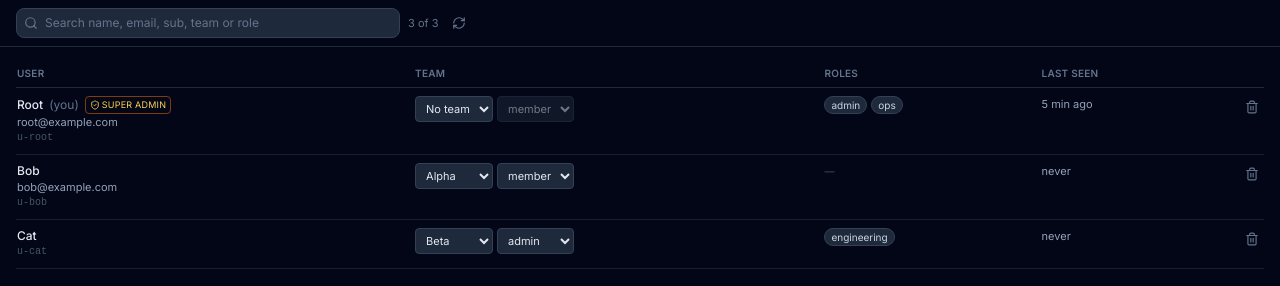
the users table › filters by name, email, sub, team or role
The image size is (1280, 286).
Expected: the row with test id "user-u-bob" is shown, [16, 154, 1264, 220]
Type "bob@" into the field named "Search users" at [208, 23], box [16, 8, 400, 38]
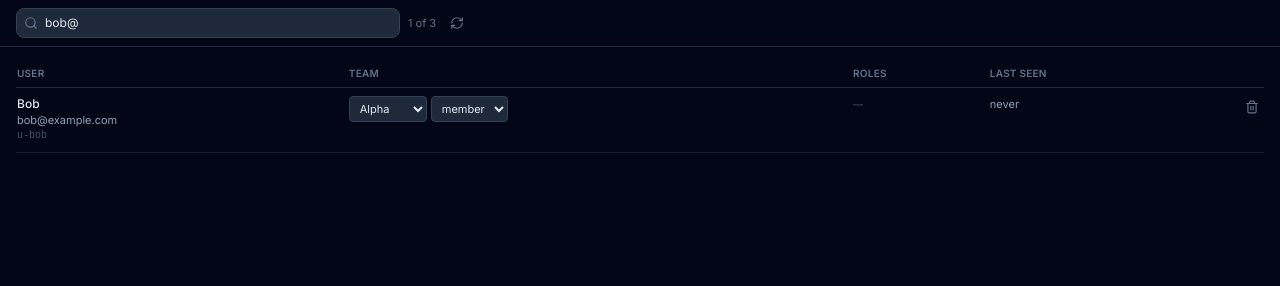
Expected: the row with test id "user-u-bob" is shown, [16, 88, 1264, 152]
Expected: the row with test id "user-u-root" is gone
Replace the text in the field named "Search users" with "engineering" at [208, 23], box [16, 8, 400, 38]
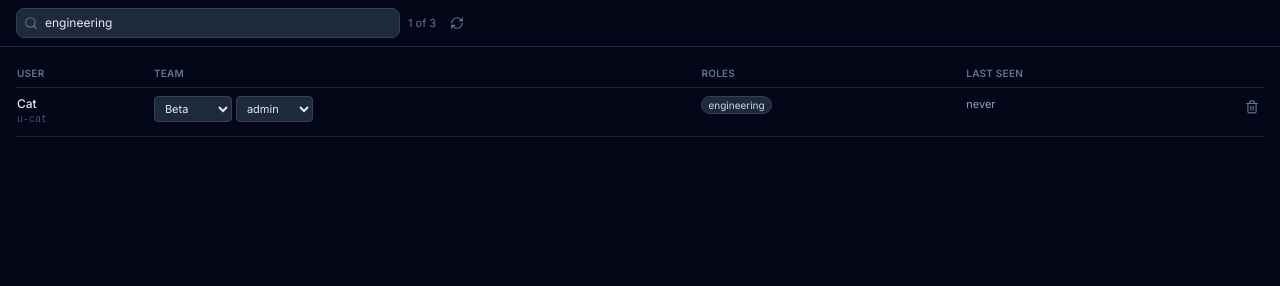
Expected: the row with test id "user-u-cat" is shown, [16, 88, 1264, 136]
Expected: the row with test id "user-u-bob" is gone
Replace the text in the field named "Search users" with "nobody" at [208, 23], box [16, 8, 400, 38]
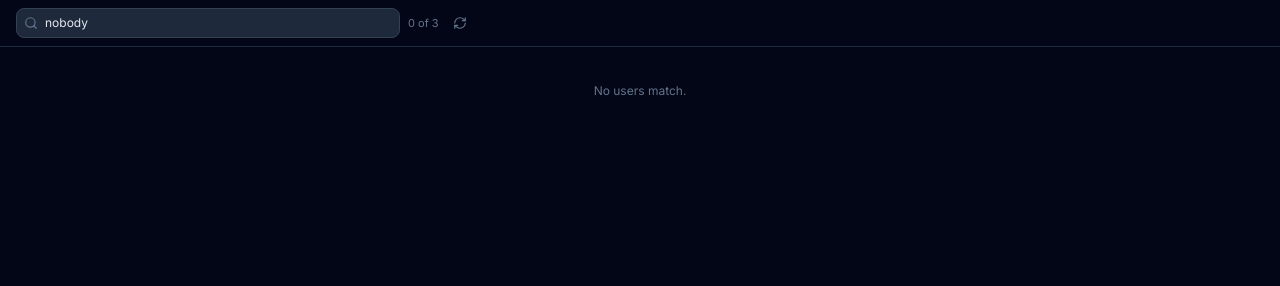
Expected: the text "No users match." is shown, [594, 83, 686, 98]
